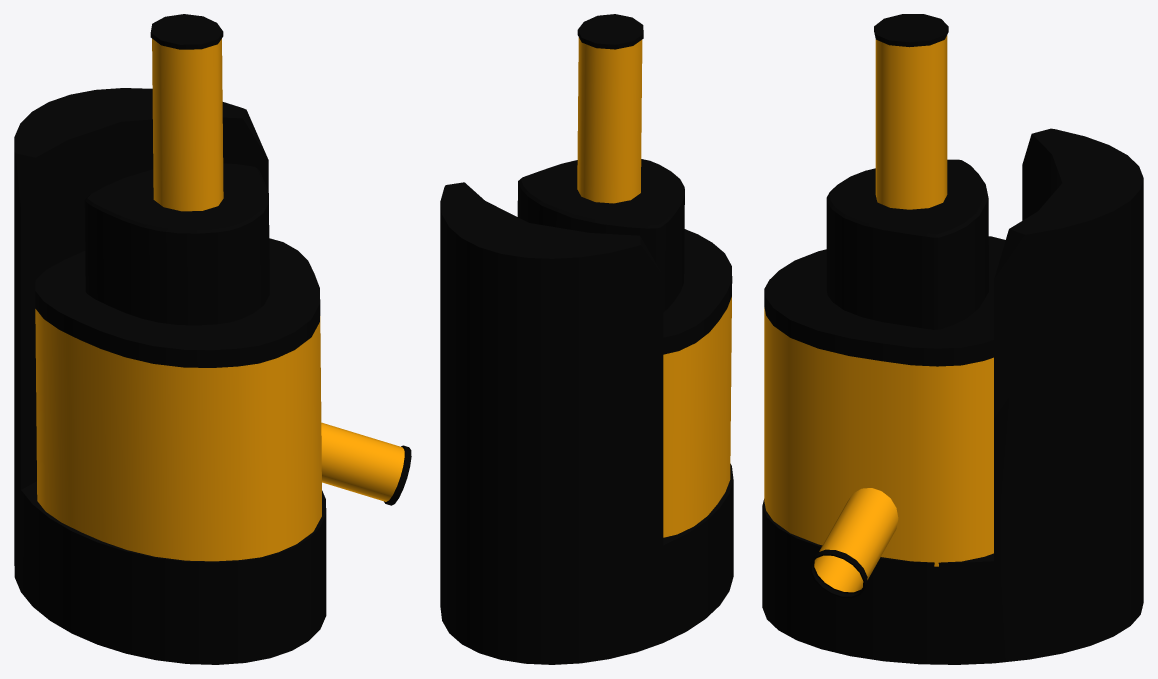
Rendered from juicer.fbx.
The picture shows the model from 3 angles, left to right: view 1: azimuth 30°, elevation 25°; view 2: azimuth 150°, elevation 25°; view 3: azimuth 270°, elevation 25°; orthographic projection. The views are drawn at different scales.
Visible parts, largest first — view 1: Glass, Juicer; view 2: Juicer, Glass; view 3: Glass, Juicer.
Boxes of the visible parts, x1,y1,x2,y2 form: Glass: [35, 14, 411, 561]; Juicer: [14, 88, 326, 664]; Juicer: [440, 182, 733, 664]; Glass: [517, 14, 732, 537]; Glass: [764, 14, 1005, 598]; Juicer: [762, 128, 1143, 664].
Bounding box in the file's own units: 0.56 × 1 × 0.6008.
